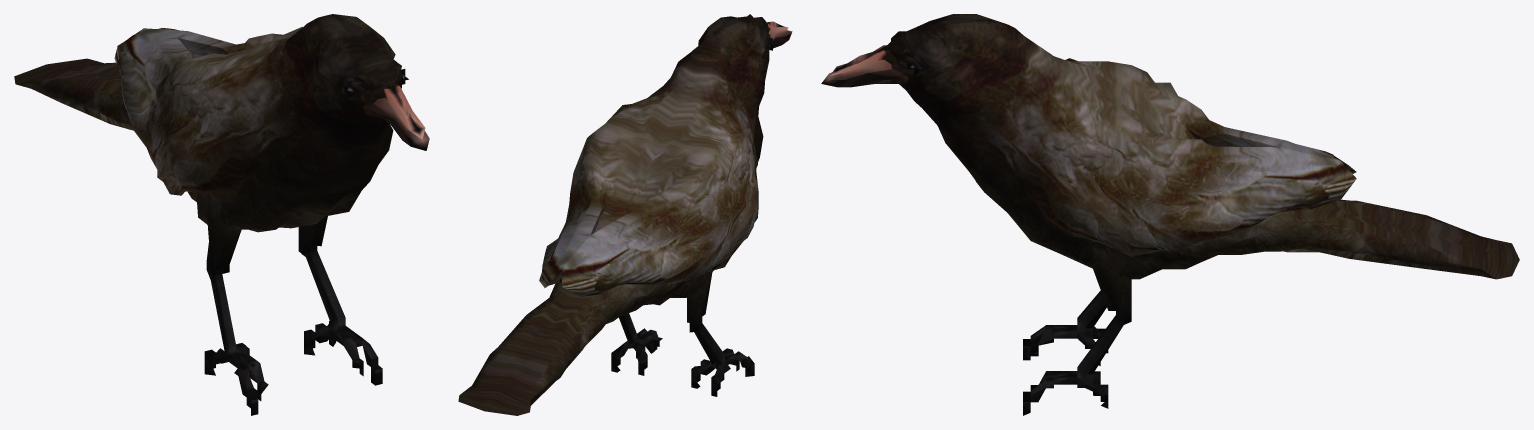
File: Crow.obj
3 views of the same model, side by side, from view 1: azimuth 30°, elevation 25°; view 2: azimuth 150°, elevation 25°; view 3: azimuth 270°, elevation 25° (orthographic). The views are drawn at different scales.
Parts seen in each view (by area): view 1: Crow; view 2: Crow; view 3: Crow.
Part boxes in pixels (<box>): Crow: <box>14,14,429,415</box>; Crow: <box>458,14,792,415</box>; Crow: <box>821,14,1519,415</box>.
Size of the model in its own units: 0.28 by 0.52 by 0.9.
